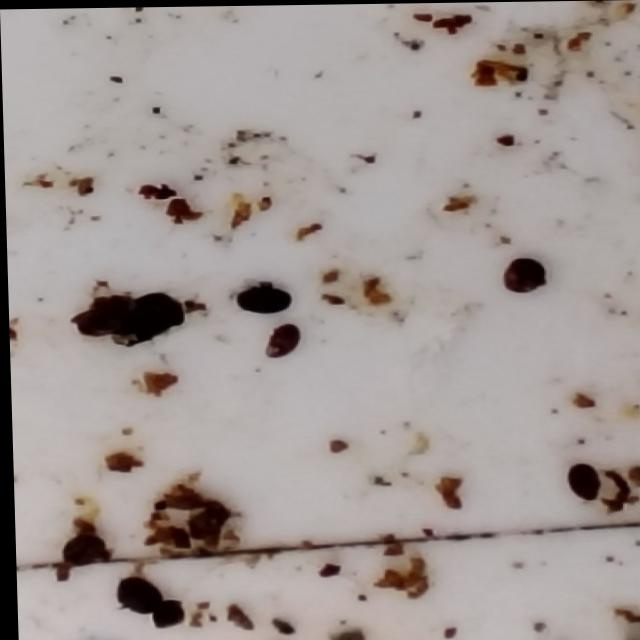varroa: (232, 282, 291, 317), (111, 572, 157, 616), (58, 528, 105, 571), (498, 256, 546, 298), (558, 460, 601, 506), (259, 323, 298, 359), (147, 596, 182, 627)
